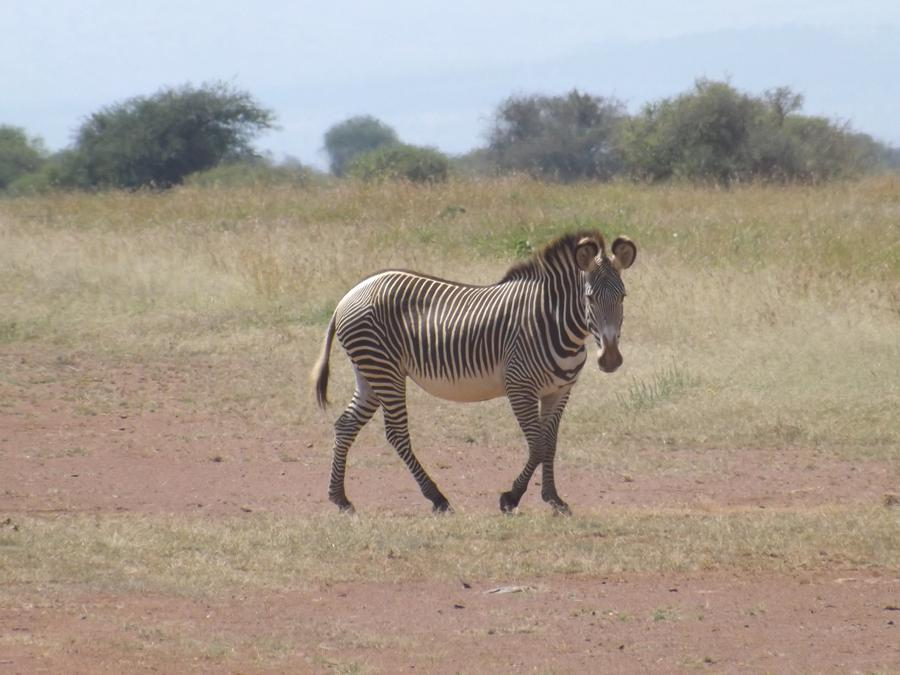zebra_grevys: (324, 251, 556, 394)
